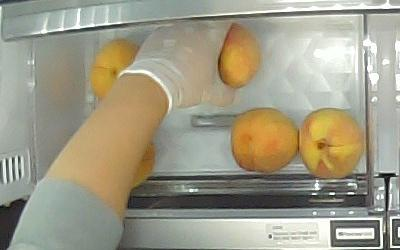peach: (297, 106, 363, 176), (231, 108, 297, 174), (89, 40, 142, 101), (218, 23, 260, 89)
